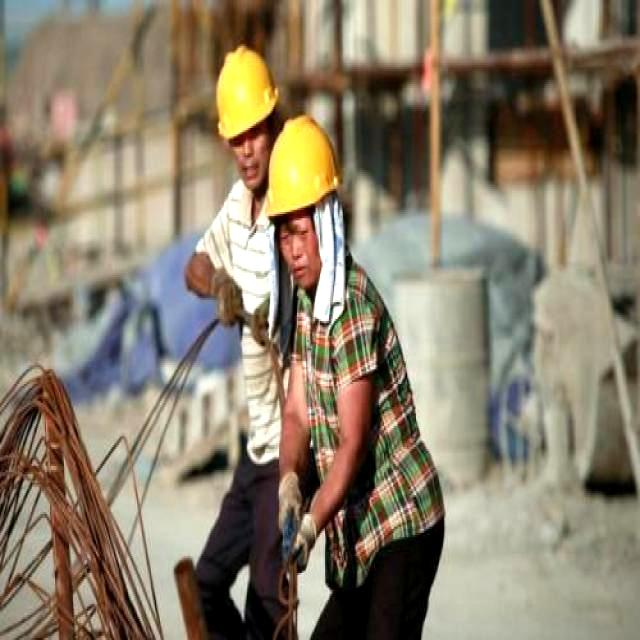hard_hat: (266, 113, 340, 216), (216, 46, 278, 138)
person: (266, 115, 444, 638), (184, 46, 280, 638)
